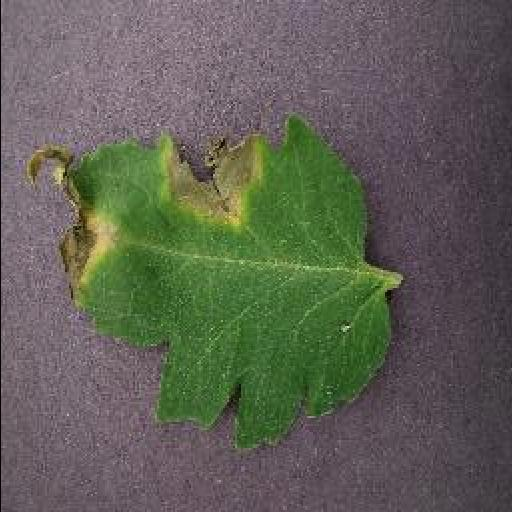disease_tomato: (22, 108, 394, 452)
